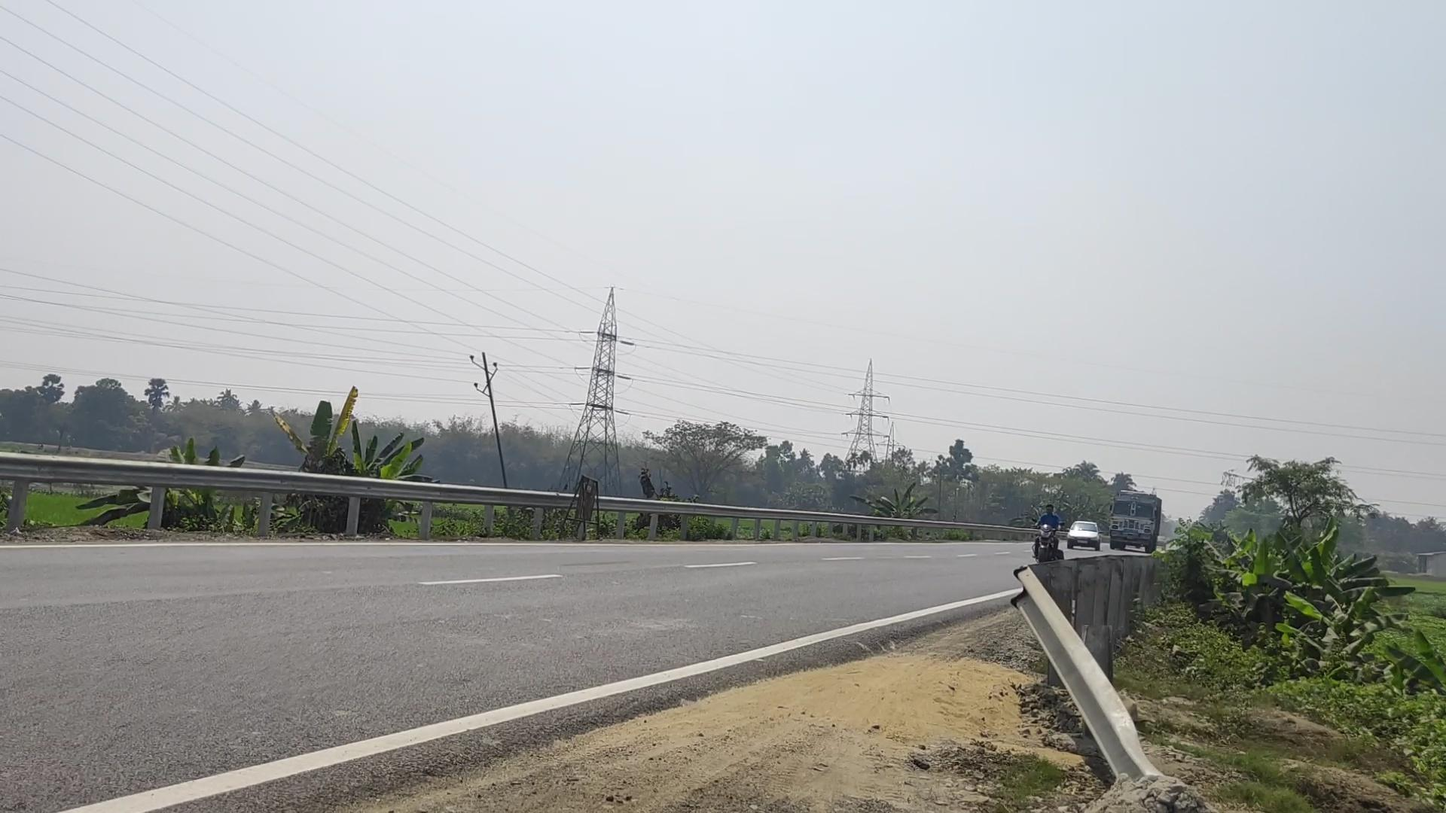bike: (1031, 504, 1066, 562)
car: (1066, 521, 1103, 552)
truck: (1109, 489, 1162, 553)
